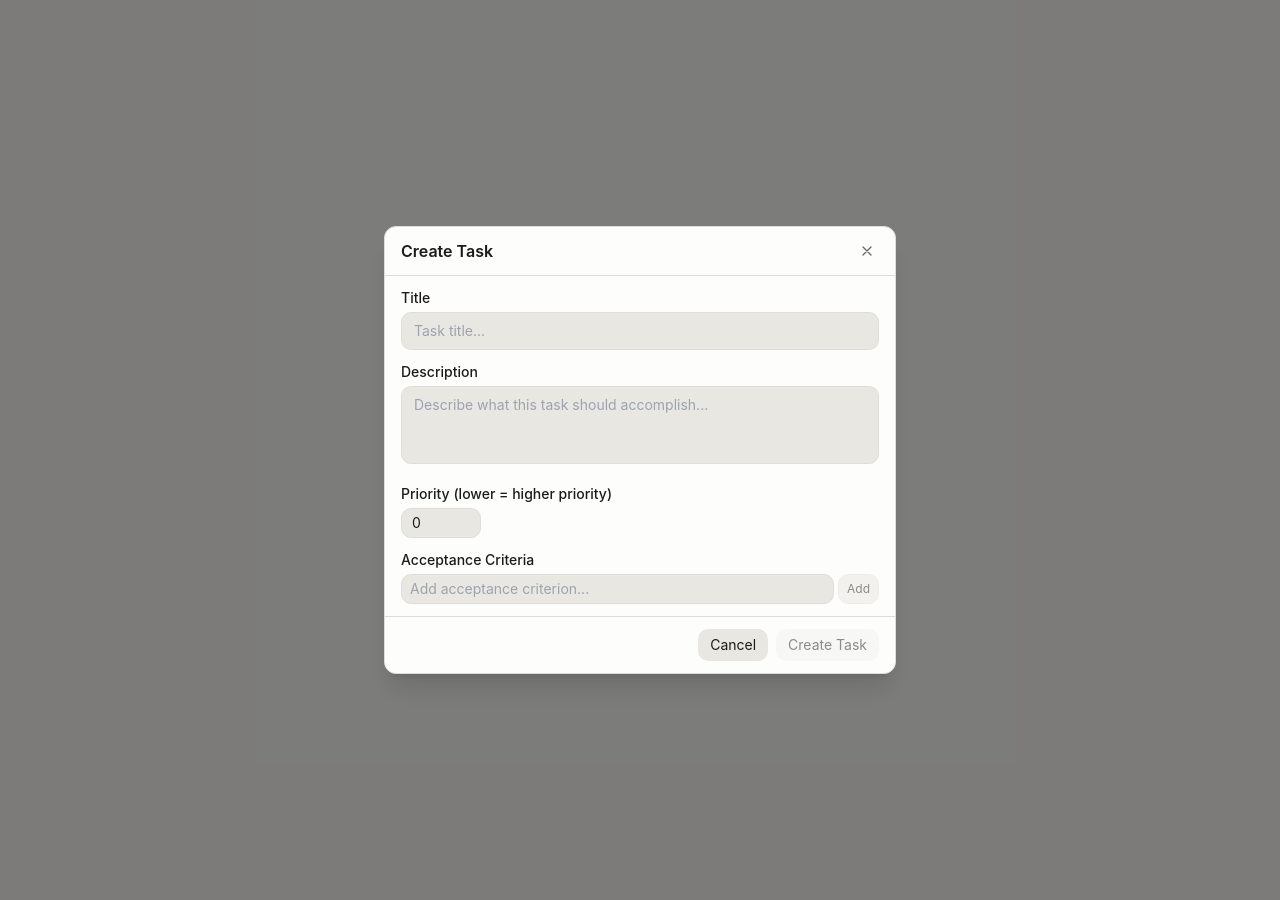
it: CreateTaskDialog › displays error when creation fails
Type "Failing Task" into the field with placeholder "Task title...". click: (640, 331)
box: [401,312,879,350]
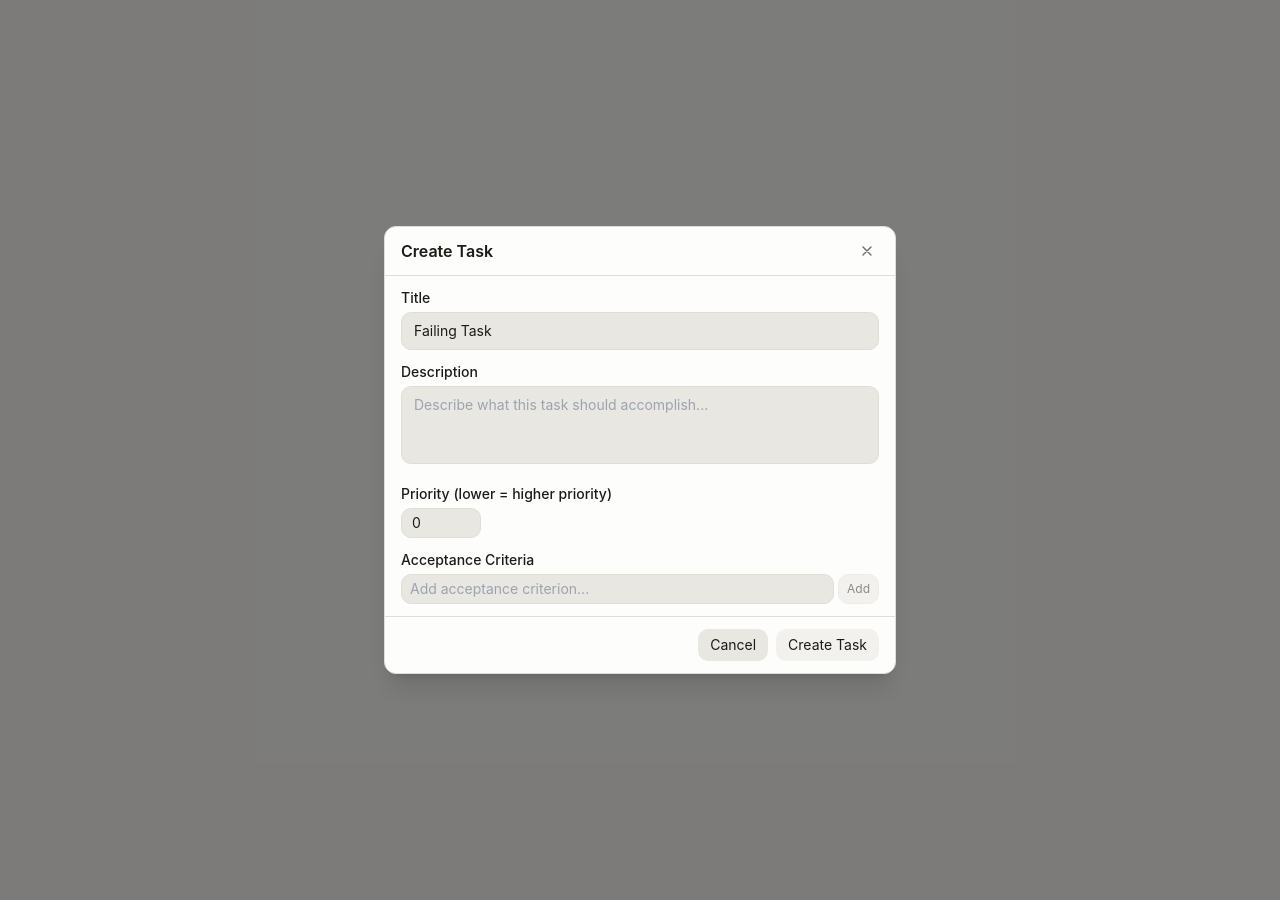
Click the button "Create Task". click: (828, 645)
box: [776,629,879,661]
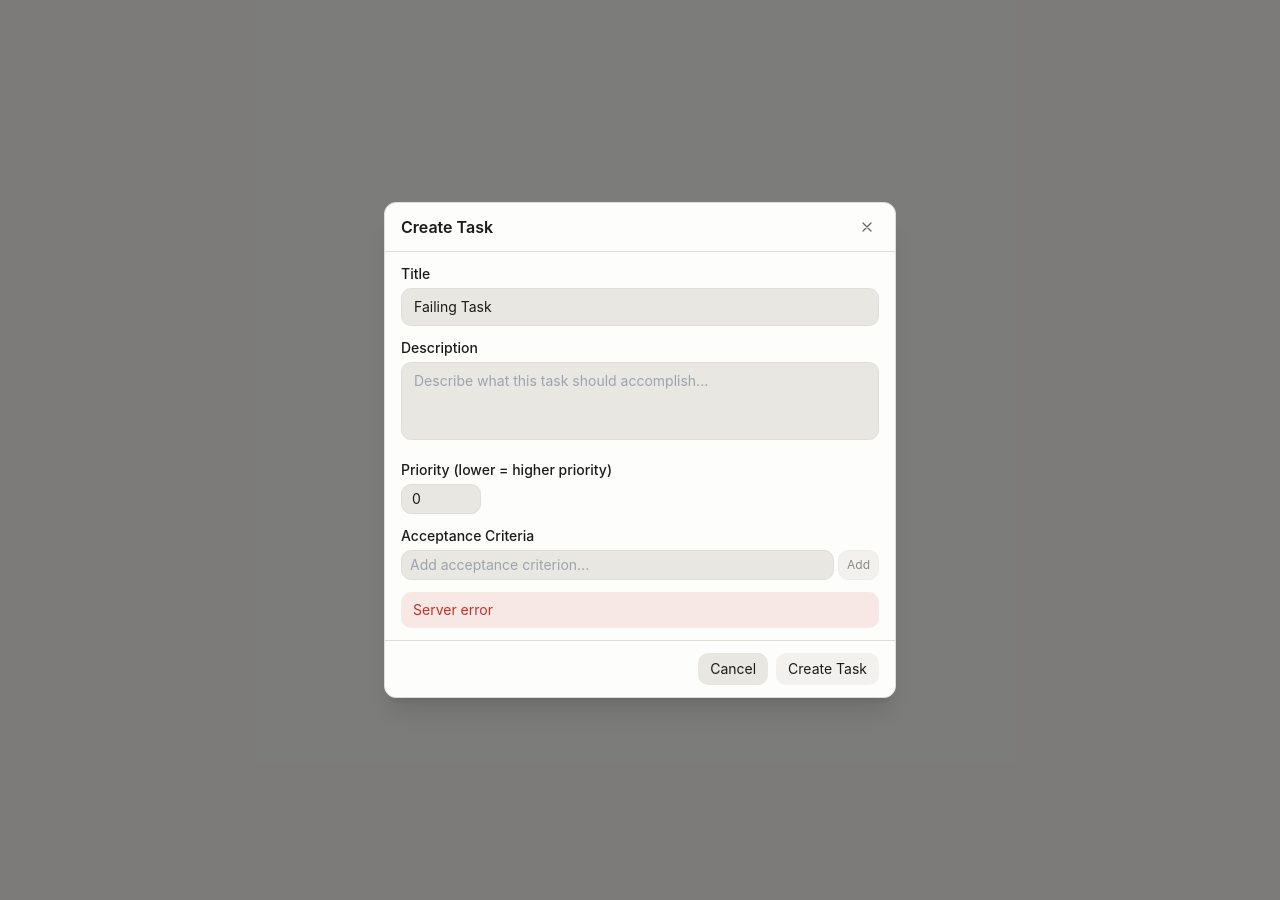
Expected: the text "Server error" is shown, [401,592,879,628]
